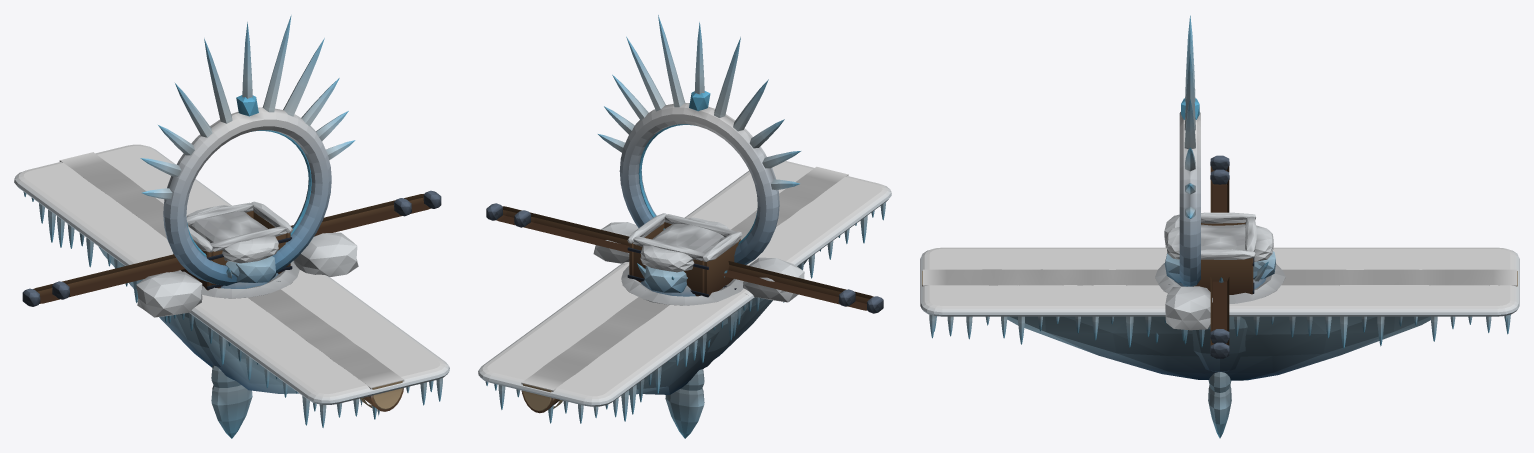
The model's file is glacier-2-D1WRQ3KV.glb.
3 views of the same model, side by side, from view 1: azimuth 30°, elevation 25°; view 2: azimuth 150°, elevation 25°; view 3: azimuth 270°, elevation 25° (orthographic). The views are drawn at different scales.
Visible parts, largest first — view 1: block_10x2x40#0, portal_#0, beam_2.5x1.5x40#0, spout_2x5#0, hopper_4.7x3#0, mount_14.9#0, mount_12.7#0, blade_3x12x1#0, geyserVent_3.9#0, disc_10x1.5#0; view 2: block_10x2x40#0, portal_#0, beam_2.5x1.5x40#0, hopper_4.7x3#0, spout_2x5#0, mount_14.9#0, mount_12.7#0, geyserVent_3.9#0, blade_3x12x1#0, disc_10x1.5#0; view 3: block_10x2x40#0, beam_2.5x1.5x40#0, portal_#0, hopper_4.7x3#0, spout_2x5#0, mount_14.9#0, disc_10x1.5#0, geyserVent_3.9#0, mount_12.7#0, blade_3x12x1#0.
Part boxes in pixels (x1,y1,x2,y2): block_10x2x40#0: (14, 144, 449, 427); portal_#0: (136, 15, 358, 317); beam_2.5x1.5x40#0: (59, 152, 404, 415); spout_2x5#0: (187, 205, 280, 282); hopper_4.7x3#0: (181, 201, 293, 290); mount_14.9#0: (22, 190, 441, 306); mount_12.7#0: (52, 198, 411, 299); blade_3x12x1#0: (211, 385, 252, 438); geyserVent_3.9#0: (173, 261, 299, 298); disc_10x1.5#0: (168, 313, 220, 366); block_10x2x40#0: (478, 161, 891, 423); portal_#0: (593, 15, 804, 302); beam_2.5x1.5x40#0: (521, 166, 848, 413); hopper_4.7x3#0: (627, 213, 742, 297); spout_2x5#0: (640, 217, 728, 294); mount_14.9#0: (486, 203, 883, 313); mount_12.7#0: (514, 210, 855, 306); geyserVent_3.9#0: (621, 263, 743, 305); blade_3x12x1#0: (665, 388, 704, 438); disc_10x1.5#0: (623, 264, 748, 370); block_10x2x40#0: (920, 247, 1519, 380); beam_2.5x1.5x40#0: (922, 269, 1517, 286); portal_#0: (1164, 15, 1212, 330); hopper_4.7x3#0: (1187, 212, 1256, 294); spout_2x5#0: (1164, 224, 1275, 284); mount_14.9#0: (1210, 155, 1229, 358); disc_10x1.5#0: (1184, 316, 1247, 371); geyserVent_3.9#0: (1155, 261, 1285, 303); mount_12.7#0: (1210, 169, 1229, 343); blade_3x12x1#0: (1208, 385, 1231, 438).
Size of the model in its own units: 30.7 by 30.47 by 40.36.
